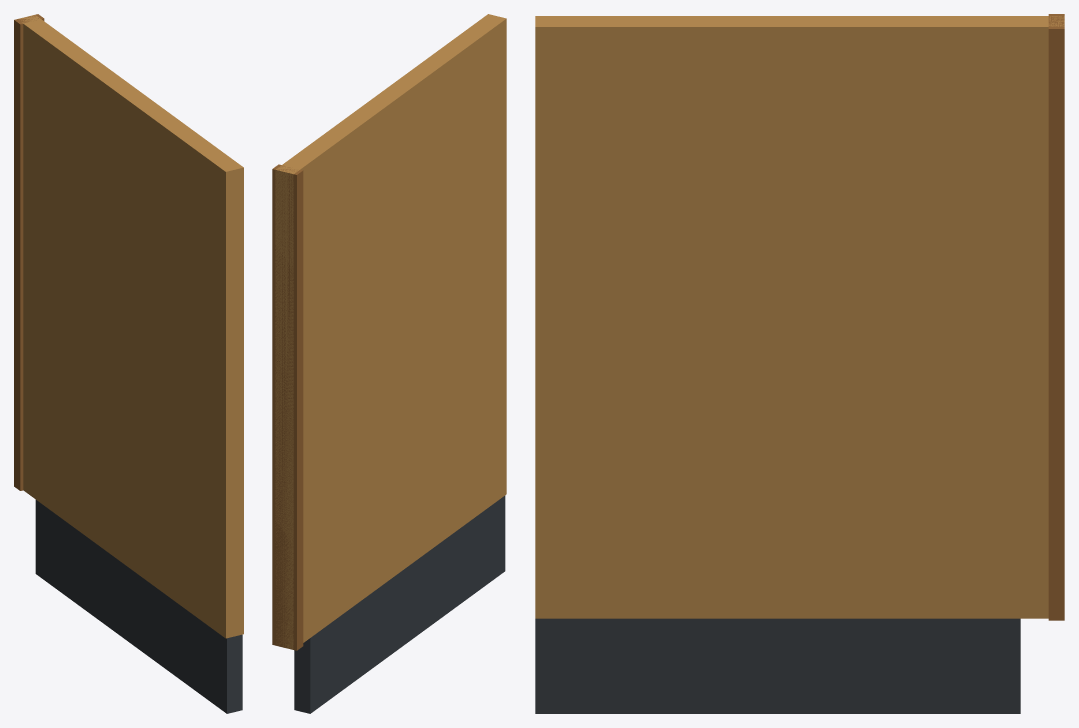
The model's file is SM_LPI_Kitchen_EndPanel_01.fbx.
3 views of the same model, side by side, from view 1: azimuth 30°, elevation 25°; view 2: azimuth 150°, elevation 25°; view 3: azimuth 270°, elevation 25° (orthographic). The views are drawn at different scales.
Parts seen in each view (by area): view 1: SM_LPI_Kitchen_EndPanel_01; view 2: SM_LPI_Kitchen_EndPanel_01; view 3: SM_LPI_Kitchen_EndPanel_01.
Boxes of the visible parts, x1,y1,x2,y2 form: SM_LPI_Kitchen_EndPanel_01: [14, 14, 243, 713]; SM_LPI_Kitchen_EndPanel_01: [272, 14, 506, 713]; SM_LPI_Kitchen_EndPanel_01: [535, 14, 1064, 713].
Size of the model in its own units: 0.04 by 0.86 by 0.6.
